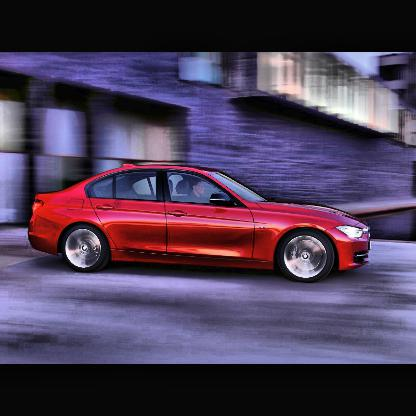BMW 3 Series Sedan 2012: (29, 164, 371, 285)
